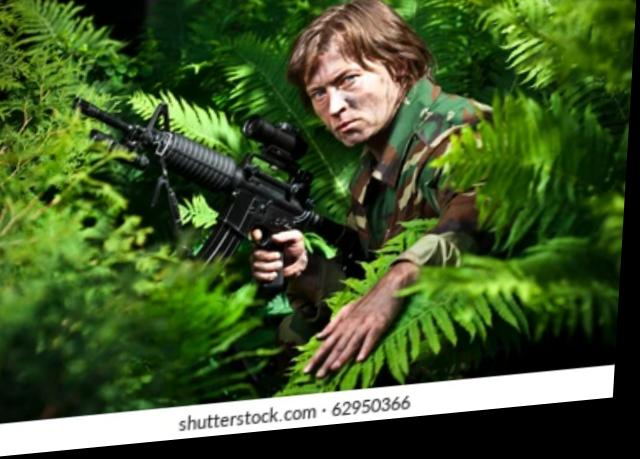other: (262, 0, 501, 381)
